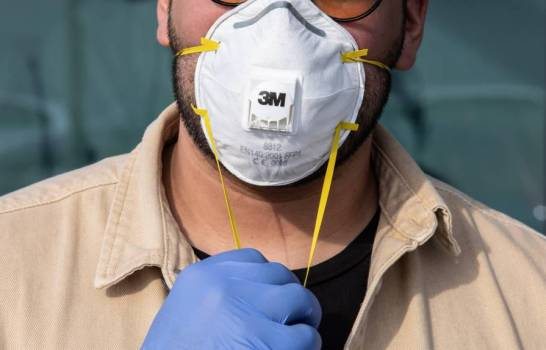with_mask: (162, 1, 424, 186)
